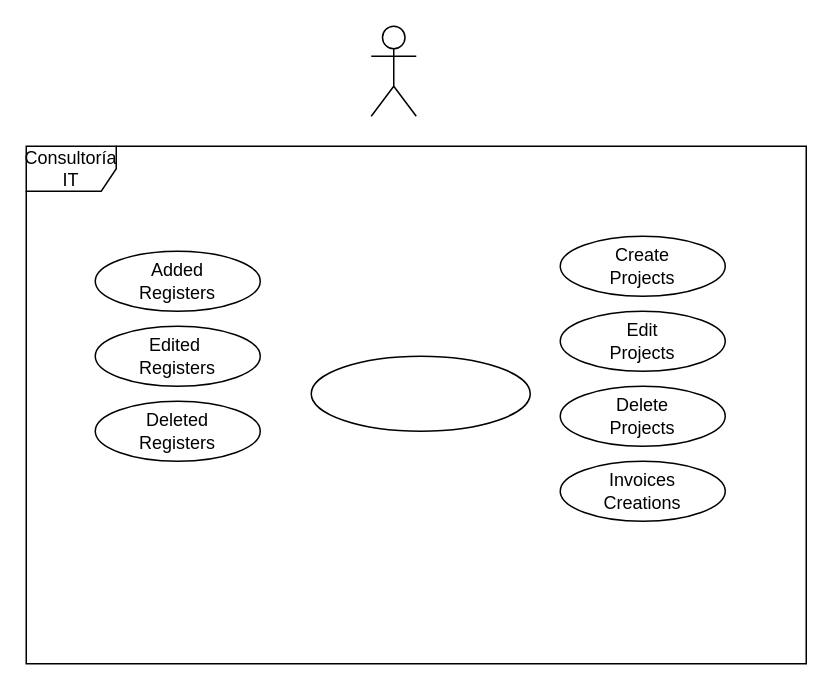
This 833x690 diagram has some shape labels left out. Here are the shapes that lost their labels. From the top down, the centre of each, then its label:
At point 393,70: "User".
At point 420,393: "Assigning employees to projects".
